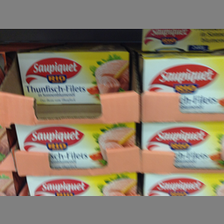fish: (17, 48, 129, 104), (12, 123, 137, 168), (140, 52, 224, 113), (141, 123, 224, 168)
